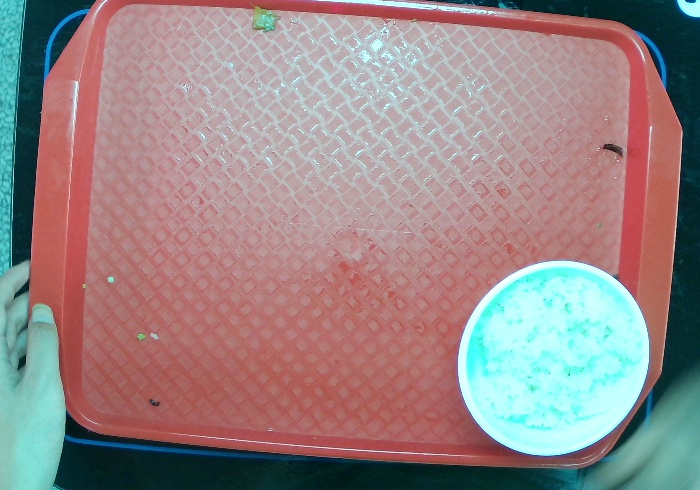YKMZ-Fan_Wan: (456, 260, 650, 459)
